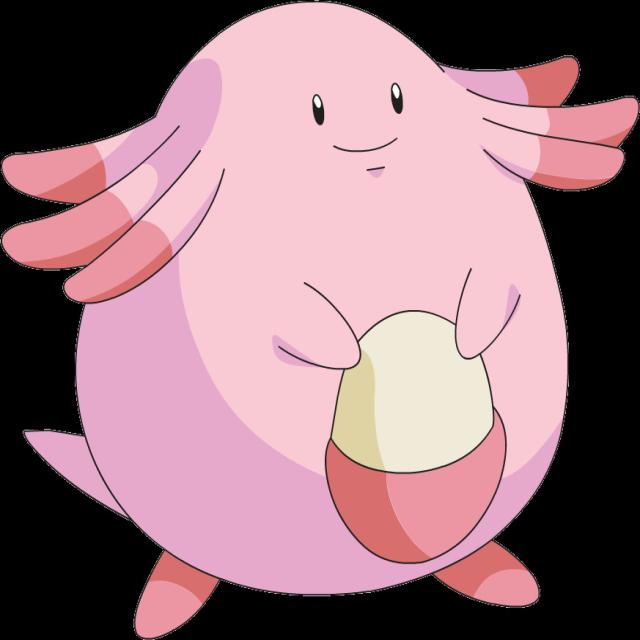Chansey: (6, 9, 624, 618)
